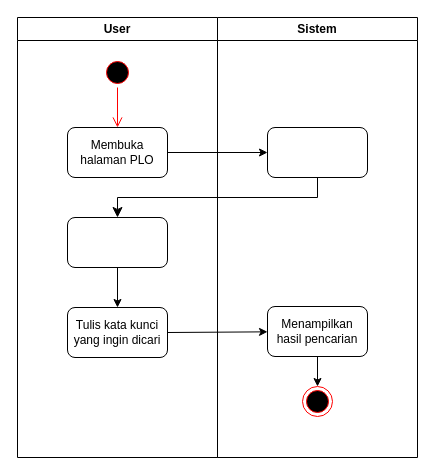
Image size: 435x475. Some labels were removed from this diagram. The shapes that lost their labels are listed below. From the top down, each one's centre as x and y in pixels, then its label:
point 317,152: Menampilkan halaman PLO
point 117,242: Pilih tanda cari data
